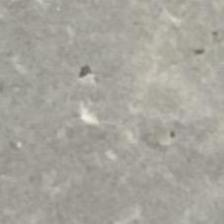Non_Crack: (20, 22, 224, 206)
